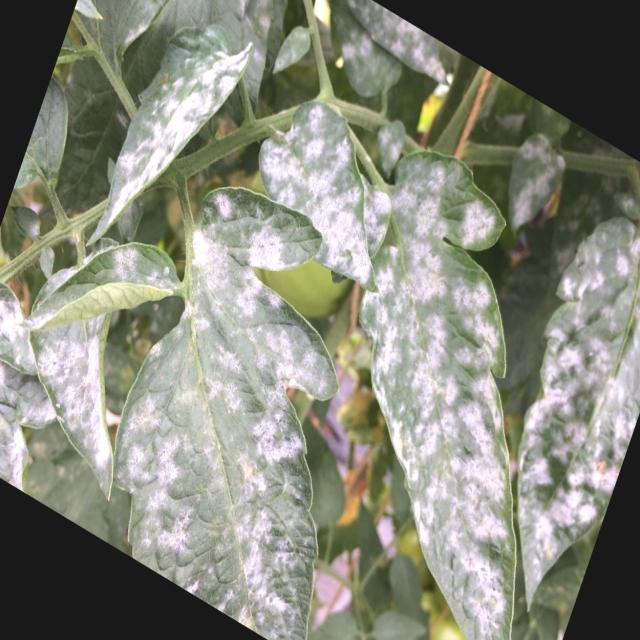Powdery Mildew: (112, 209, 339, 638), (358, 151, 515, 638), (516, 214, 639, 614), (85, 35, 254, 247), (257, 100, 392, 289)
